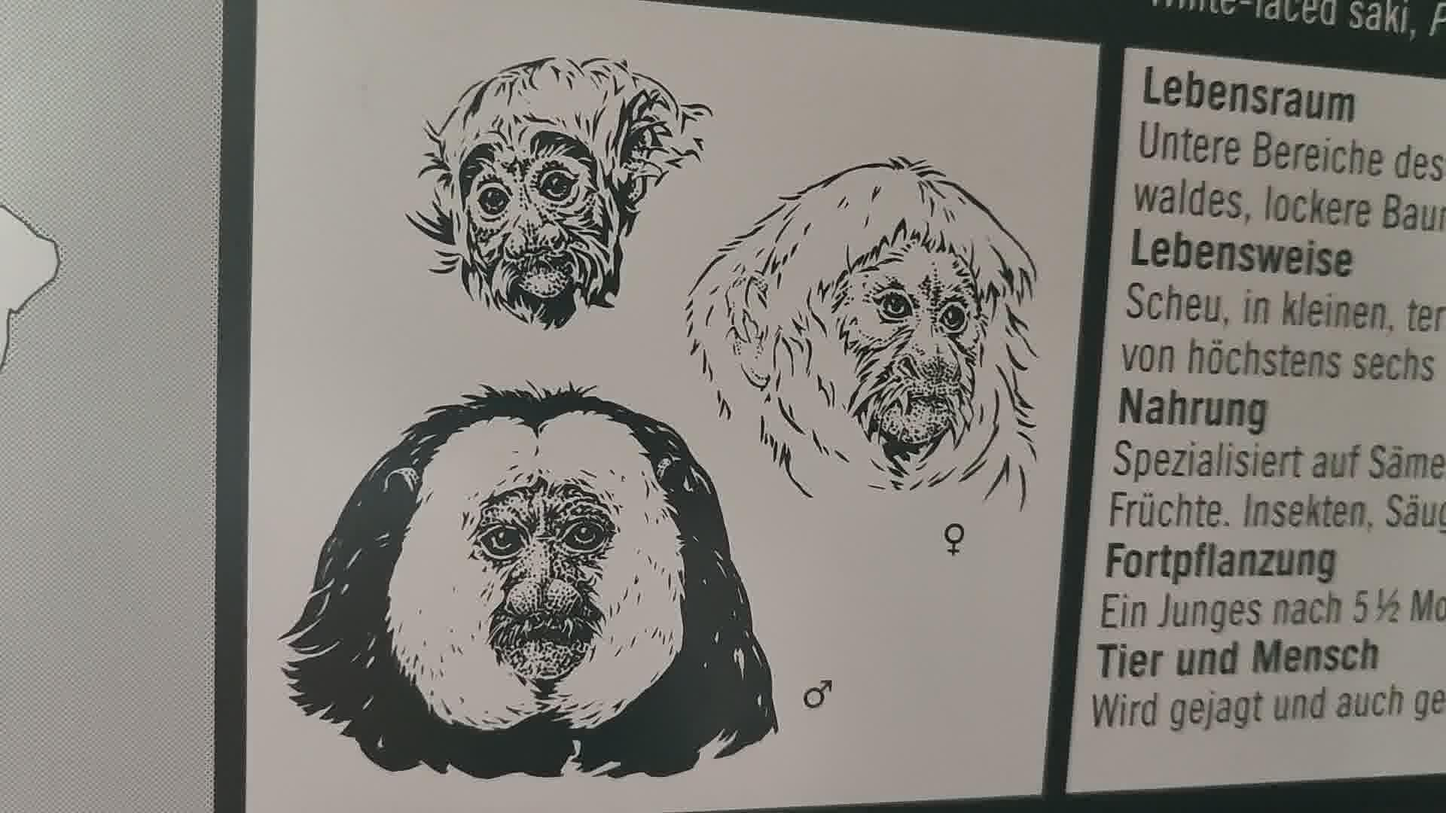boar: (276, 378, 778, 780), (684, 153, 1038, 513), (405, 56, 713, 330)
